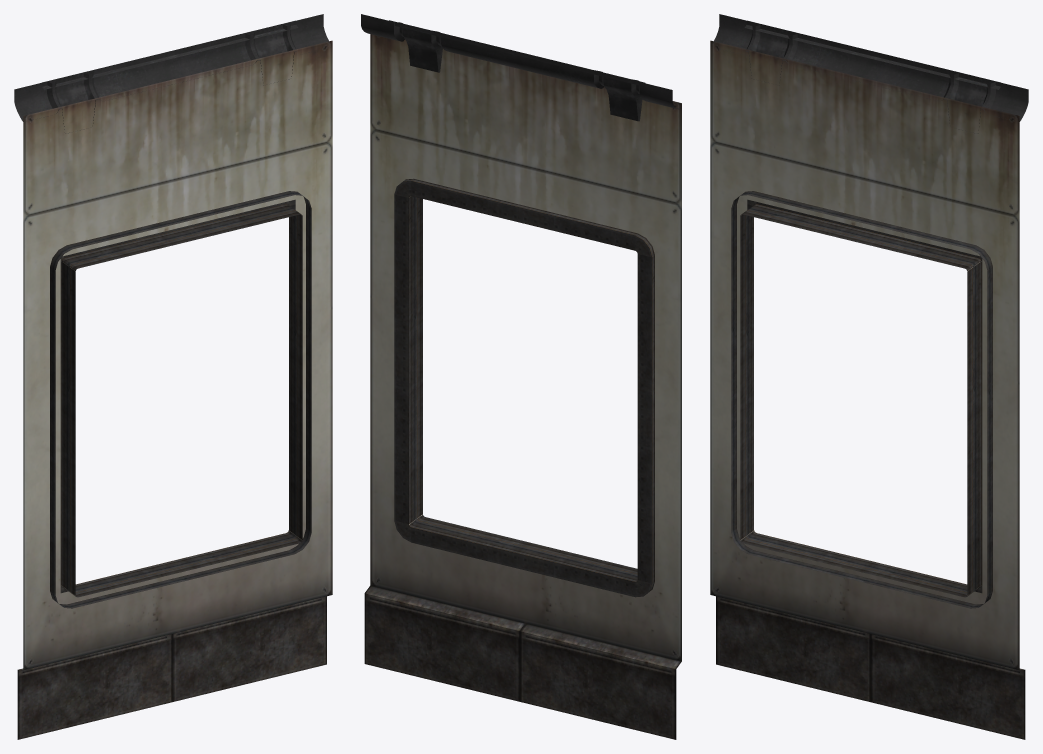
The model's file is lab_window_small.dae.
The picture shows the model from 3 angles, left to right: view 1: azimuth 30°, elevation 25°; view 2: azimuth 150°, elevation 25°; view 3: azimuth 330°, elevation 25°; orthographic projection.
Visible parts, largest first — view 1: lab_window_small; view 2: lab_window_small; view 3: lab_window_small.
Part boxes in pixels (x1,y1,x2,y2): lab_window_small: (14,14,332,739); lab_window_small: (361,14,681,739); lab_window_small: (710,14,1028,739).
Size of the model in its own units: 2 by 4 by 0.2276.
